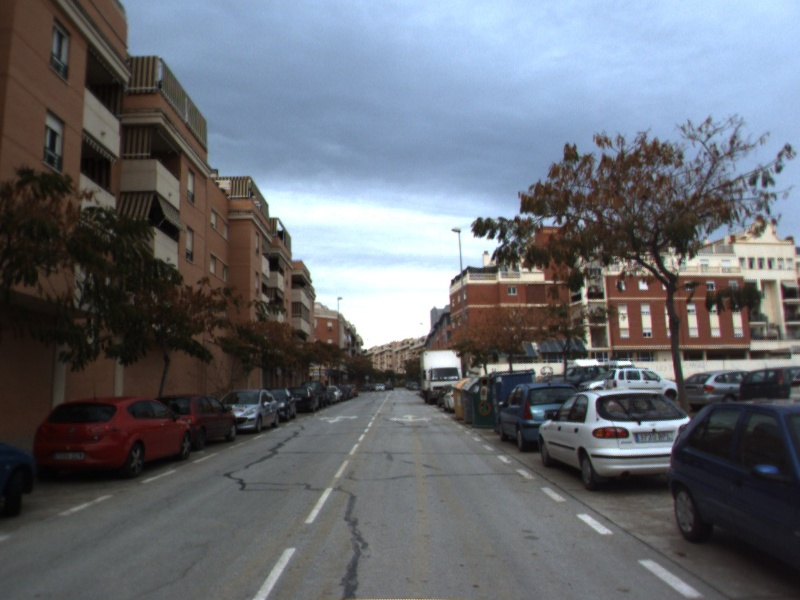STRAIGHT_LEFT_RIGHT: (387, 412, 434, 424)
